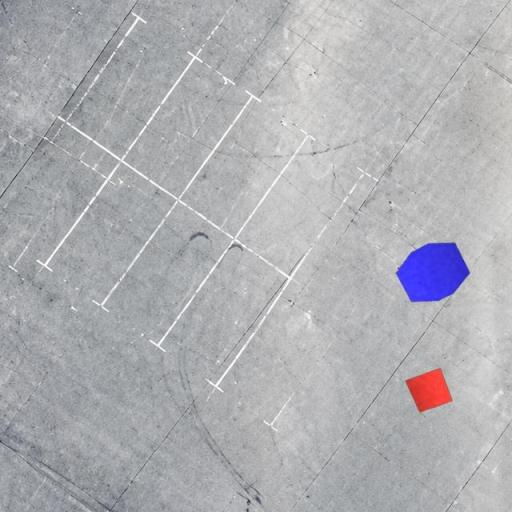RED_SQUARE: (404, 367, 454, 413)
